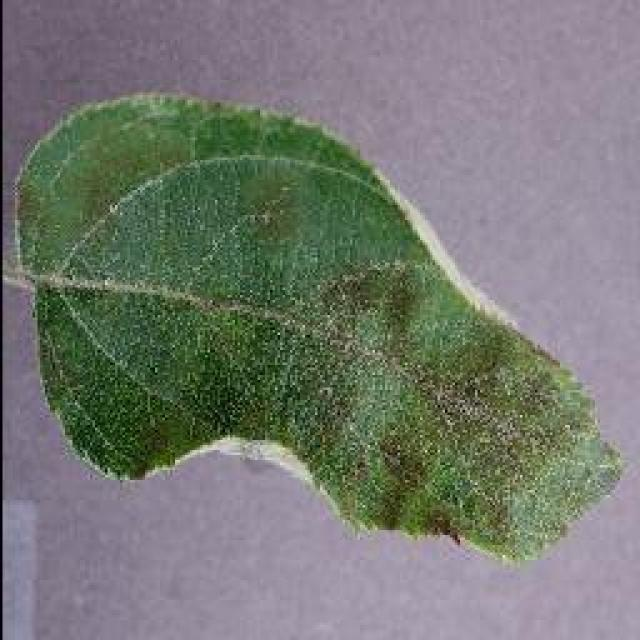apple scab disease: (13, 87, 625, 565)
